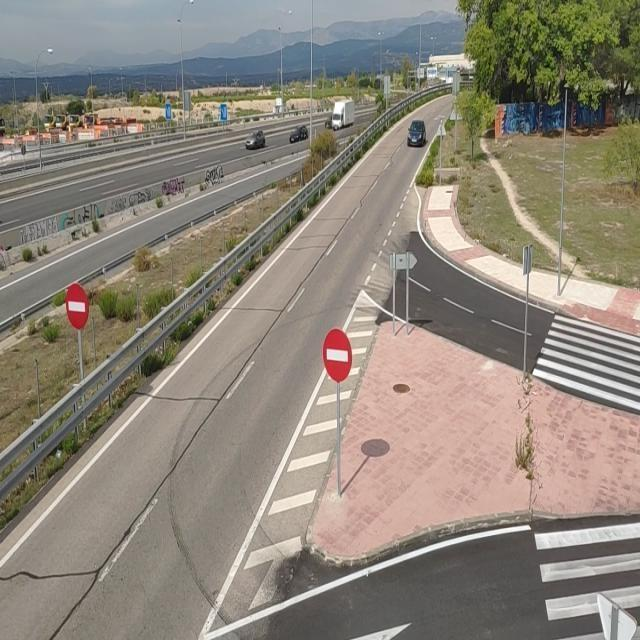Car: (407, 119, 427, 147), (245, 129, 266, 149), (289, 124, 308, 143), (325, 114, 333, 129)
Truck: (332, 100, 356, 130)
